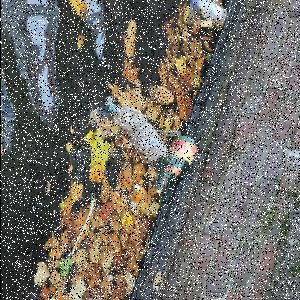Plastic-bottle: (108, 106, 170, 162)
